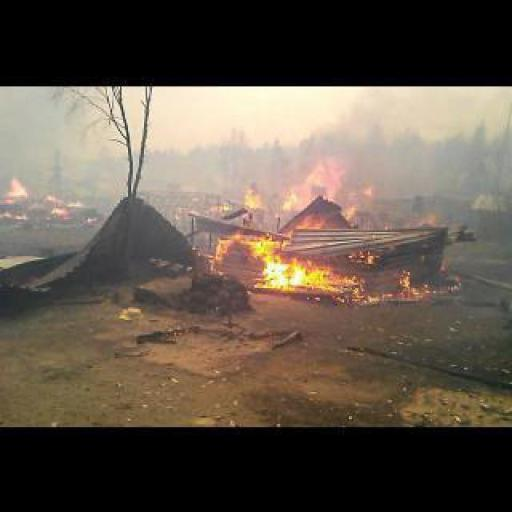smoke: (211, 154, 432, 296)
